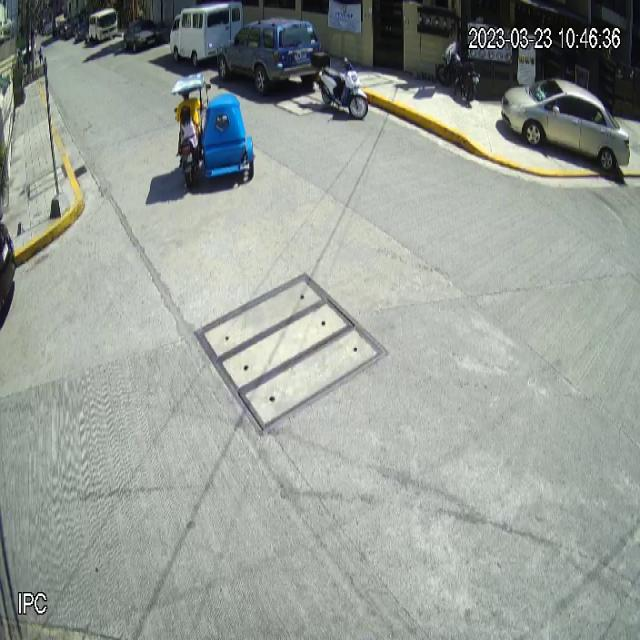Car: (500, 78, 630, 174), (218, 17, 324, 99)
Motorcycle: (312, 48, 369, 120)
Tricycle: (171, 72, 255, 189)
Van: (170, 1, 245, 67)
